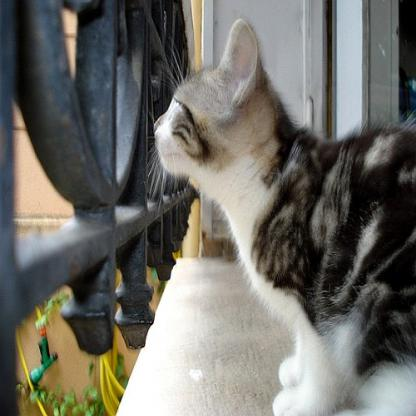cat: (153, 17, 415, 415)
